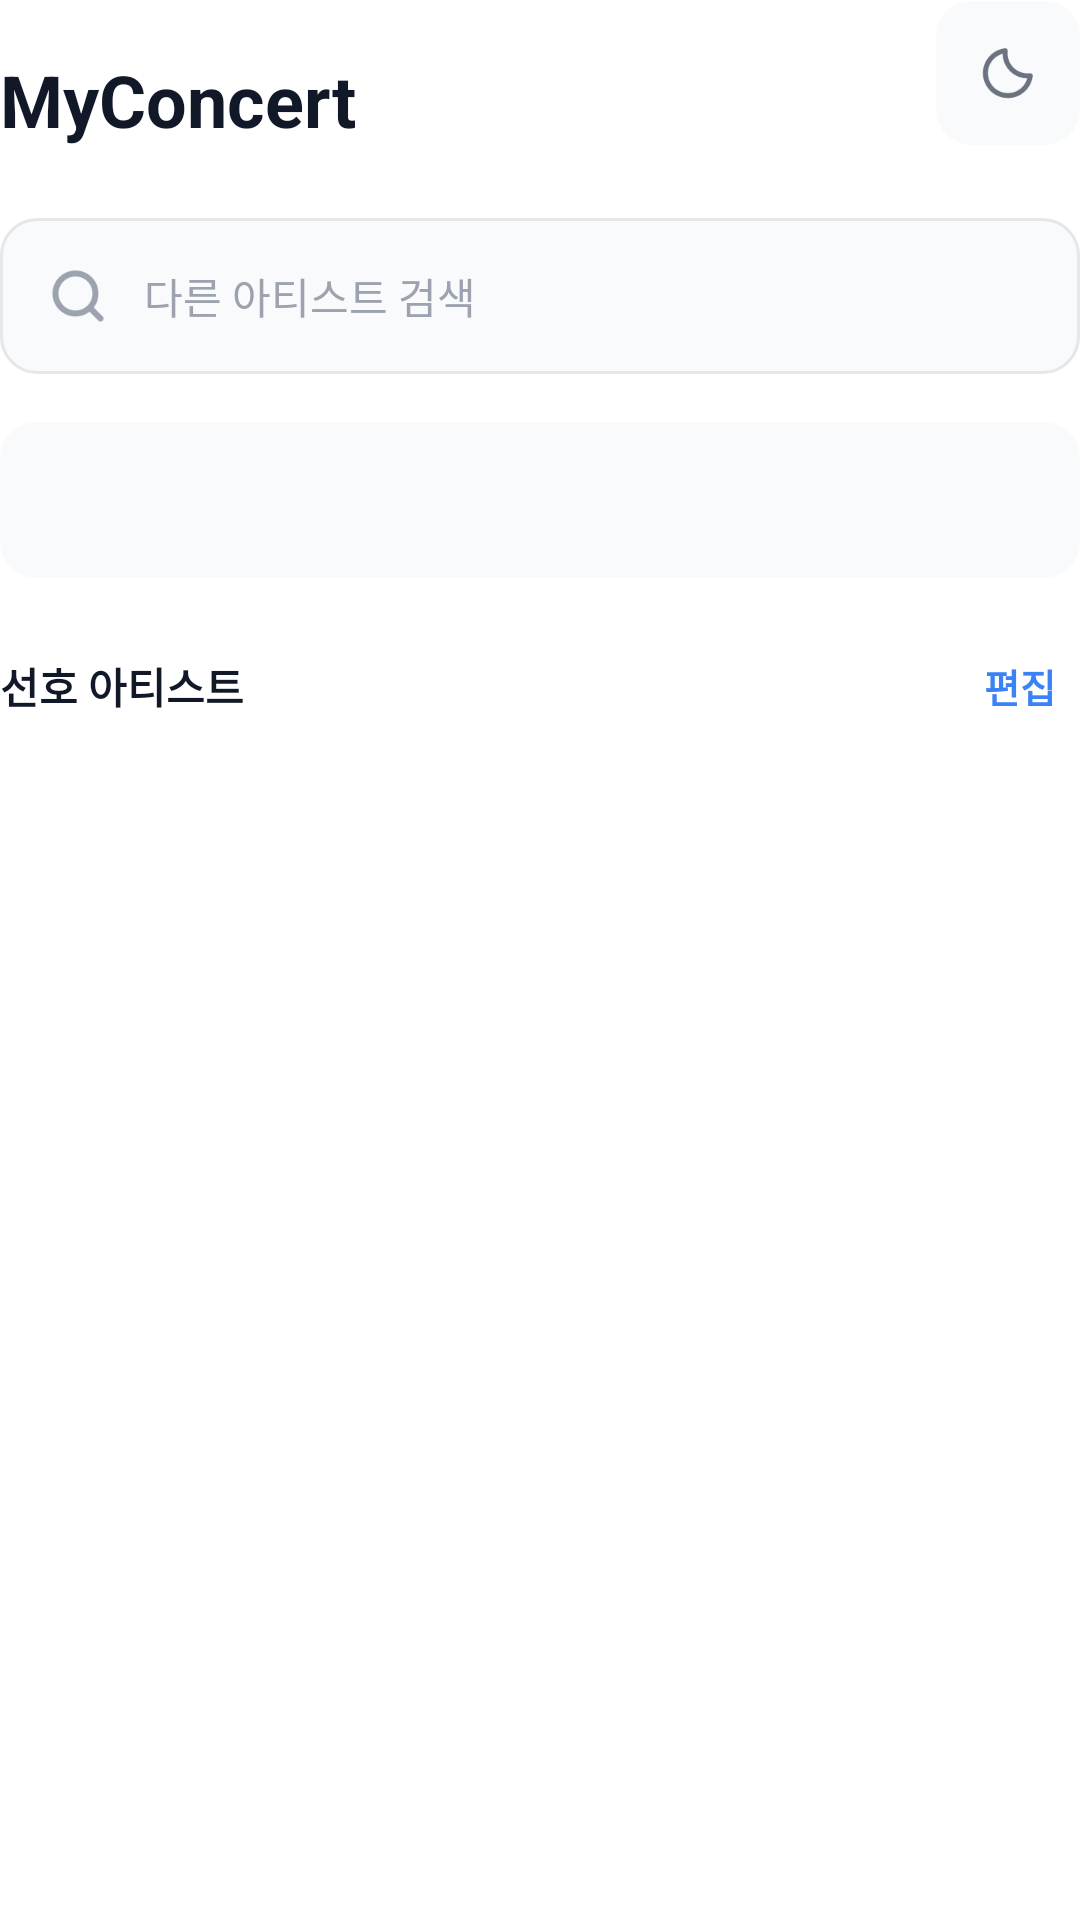

Locate icon controls on the screen. Image size 1080px×1920px, boxes as bbox(x1, y1, x2, y2).
moon: bbox(982, 48, 1033, 99)
search: bbox(52, 270, 104, 322)
